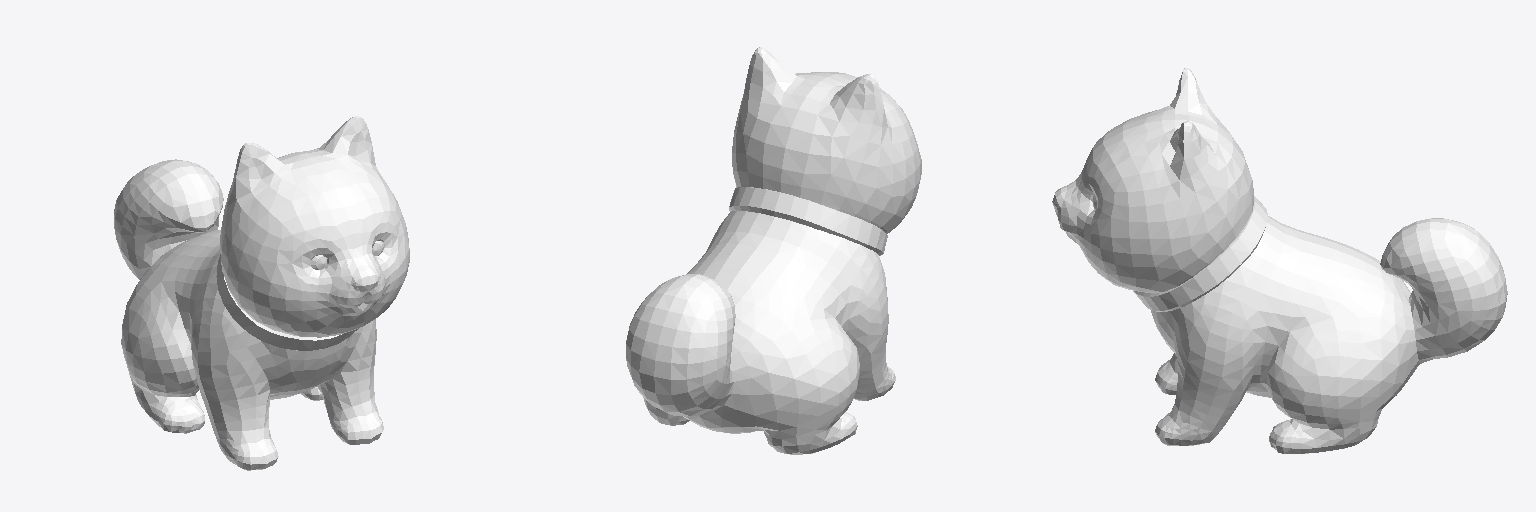
File: shiba.obj
3 views of the same model, side by side, from view 1: azimuth 30°, elevation 25°; view 2: azimuth 150°, elevation 25°; view 3: azimuth 270°, elevation 25° (orthographic).
Visible parts, largest first — view 1: obj2, obj1; view 2: obj2, obj1; view 3: obj2, obj1.
Part boxes in pixels (x1,y1,x2,y2): obj2: (114, 116, 409, 470); obj1: (216, 254, 358, 350); obj2: (626, 47, 921, 454); obj1: (729, 187, 887, 255); obj2: (1052, 68, 1507, 453); obj1: (1133, 196, 1267, 311).
Bounding box in the file's own units: 0.9209 × 1.38 × 1.77.